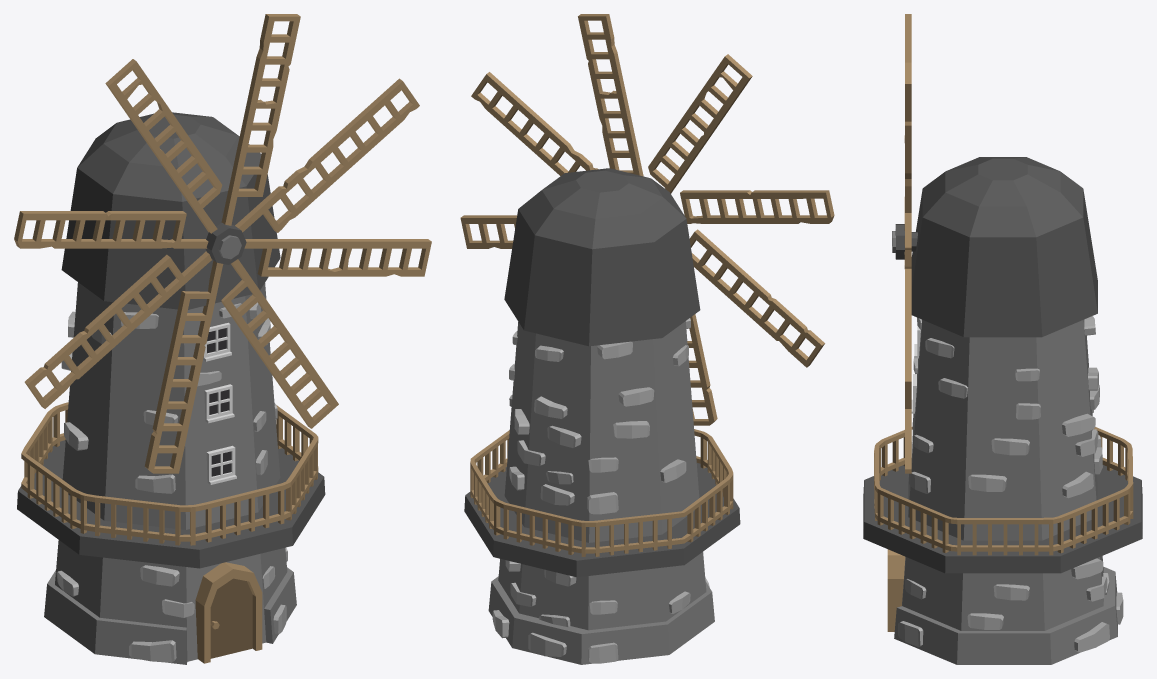
The model's file is TowerWindmill.fbx.
3 views of the same model, side by side, from view 1: azimuth 30°, elevation 25°; view 2: azimuth 150°, elevation 25°; view 3: azimuth 270°, elevation 25° (orthographic). The views are drawn at different scales.
Parts seen in each view (by area): view 1: TowerWindmill, TowerWindmill_Blades; view 2: TowerWindmill, TowerWindmill_Blades; view 3: TowerWindmill, TowerWindmill_Blades.
Boxes of the visible parts, bbox=[...] form: TowerWindmill: bbox=[17, 112, 325, 664]; TowerWindmill_Blades: bbox=[14, 14, 431, 473]; TowerWindmill: bbox=[464, 168, 740, 664]; TowerWindmill_Blades: bbox=[460, 14, 834, 425]; TowerWindmill: bbox=[863, 157, 1142, 664]; TowerWindmill_Blades: bbox=[904, 14, 911, 473].
Size of the model in its own units: 792 by 1138 by 499.
